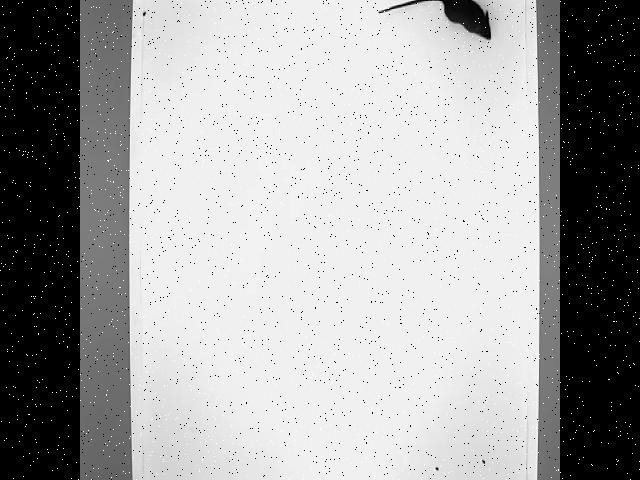Tikus: (376, 0, 491, 39)
